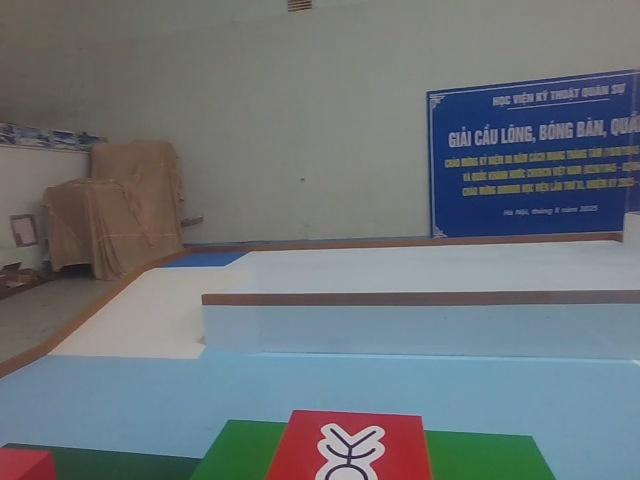R2 Real: (261, 405, 435, 480)
